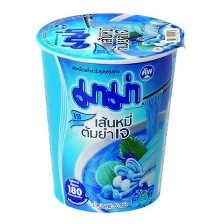paper_cup: (31, 7, 189, 216)
